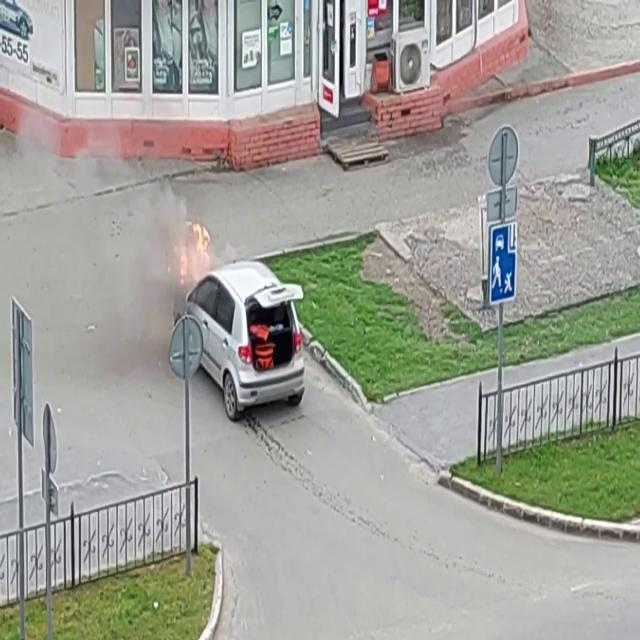Fire: (190, 211, 212, 262)
Smoke: (10, 101, 188, 434)
